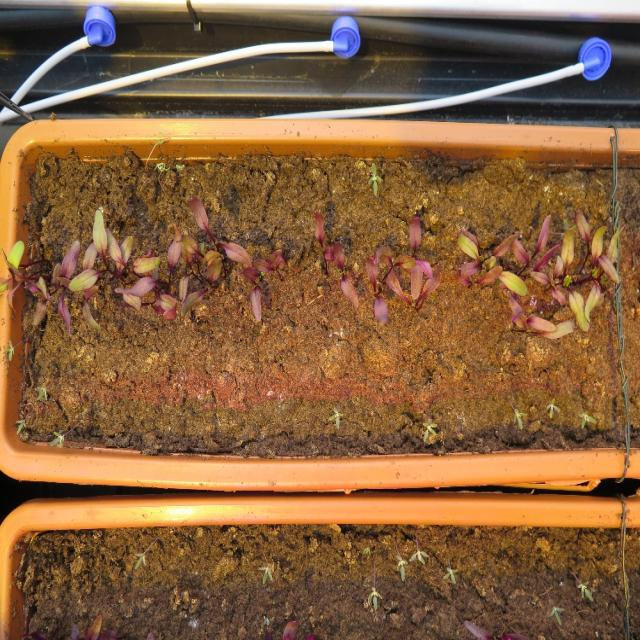weed: (367, 160, 382, 196), (365, 584, 382, 610), (408, 545, 428, 567), (577, 408, 597, 429), (576, 578, 593, 602), (33, 377, 48, 404), (48, 427, 65, 449), (328, 406, 343, 430), (422, 420, 437, 444), (547, 605, 564, 626), (441, 563, 458, 584), (1, 338, 14, 364), (513, 406, 527, 430), (257, 563, 273, 584), (545, 396, 560, 417), (396, 553, 407, 581), (132, 548, 146, 570), (12, 416, 26, 434), (360, 544, 372, 558)
